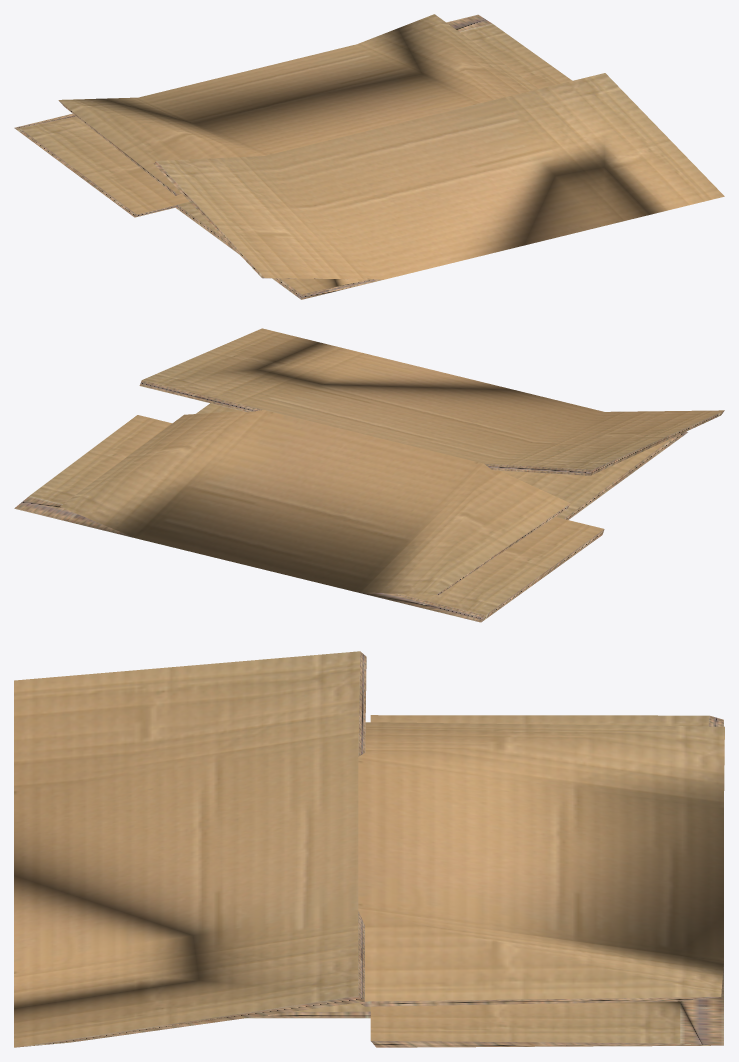
File: BoxPlainS2.fbx
3 renders of one model, top to bottom at view 1: azimuth 30°, elevation 25°; view 2: azimuth 150°, elevation 25°; view 3: azimuth 270°, elevation 25°, orthographic. The views are drawn at different scales.
Visible parts, largest first — view 1: BoxPlainS2; view 2: BoxPlainS2; view 3: BoxPlainS2.
Boxes of the visible parts, x1,y1,x2,y2 form: BoxPlainS2: [14, 14, 724, 299]; BoxPlainS2: [14, 328, 724, 622]; BoxPlainS2: [14, 651, 724, 1047].
Size of the model in its own units: 127 by 14.84 by 117.
